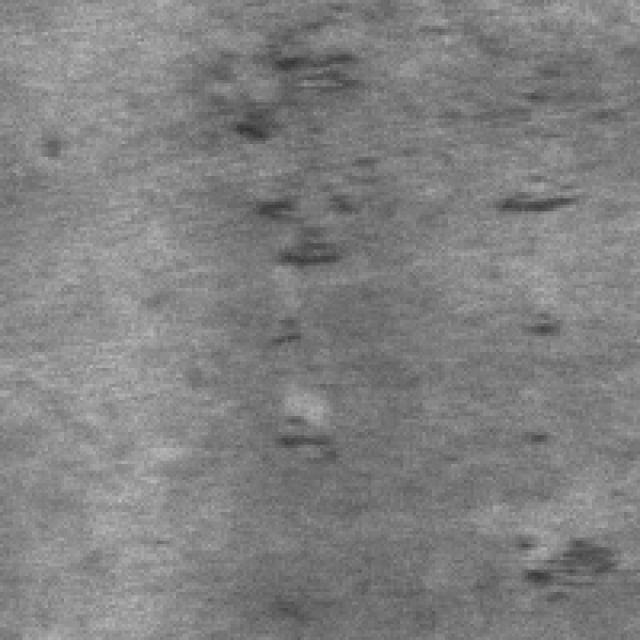rolled-in_scale: (227, 29, 365, 448), (509, 512, 621, 602)
